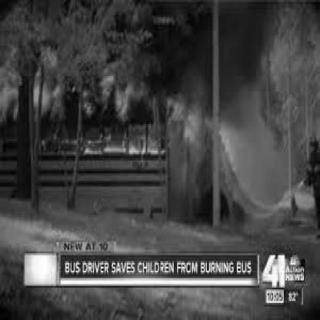Smoke: (182, 3, 296, 221)
